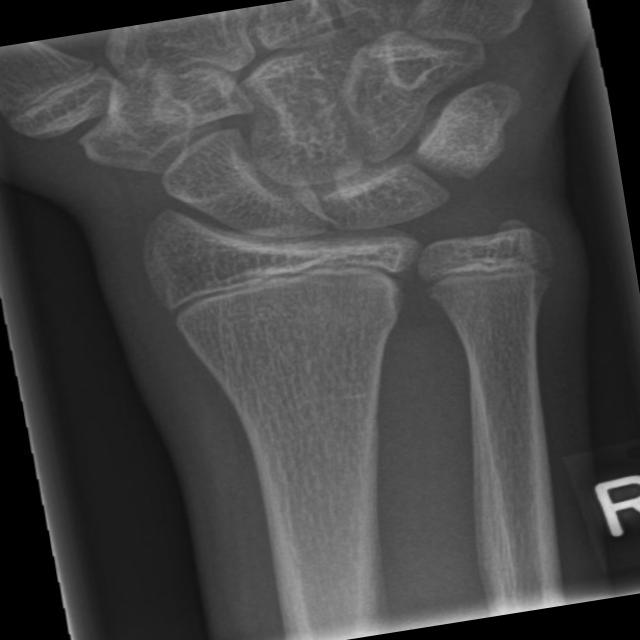fracture: (144, 224, 436, 358), (400, 225, 580, 328)
